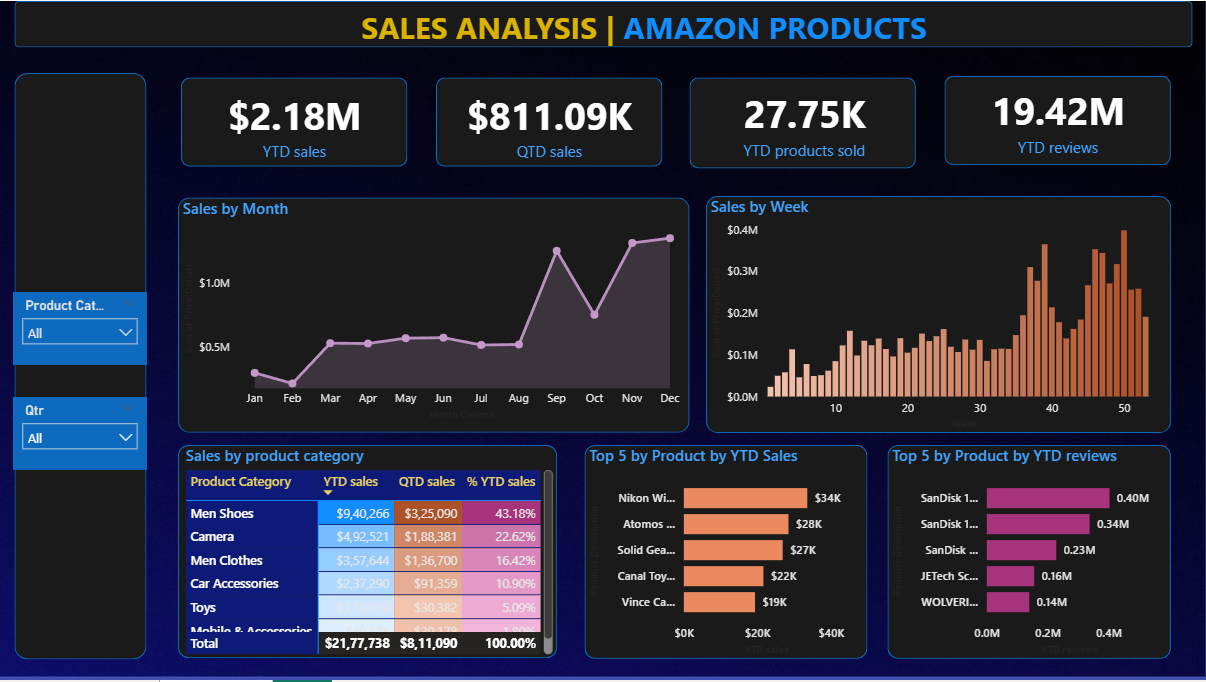

Layout of this report page (visuals, bound fields, positions):
{"tool":"powerbi","page":{"name":"Page 1","canvas":[1280,720],"ordinal":0},"visuals":[{"type":"shape","box":[17,0,1249.1,49.1],"z":0},{"type":"textbox","box":[379.8,0,623.6,52.9],"z":1000},{"type":"shape","box":[464.3,81.3,240,94.5],"z":2000},{"type":"shape","box":[17,75.6,139.8,621.7],"z":3000},{"type":"shape","box":[194.6,81.3,240,94.5],"z":4000},{"type":"shape","box":[733.9,81.3,240,96.4],"z":5000},{"type":"card","fields":{"Values":["Amazon_Data.QTD sales"]},"box":[464.9,85,240,92.6],"z":6000},{"type":"shape","box":[1003.5,79.4,240,94.5],"z":7000},{"type":"card","fields":{"Values":["Amazon_Data.YTD"]},"box":[194.6,85,240,92.6],"z":8000},{"type":"card","fields":{"Values":["Amazon_Data.YTD products sold"]},"box":[735.1,83.2,240,92.6],"z":9000},{"type":"card","fields":{"Values":["Amazon_Data.YTD reviews"]},"box":[1003.5,79.4,240,92.6],"z":10000},{"type":"shape","box":[190.9,207.9,542.4,249.5],"z":11000},{"type":"areaChart","title":"Sales by Month","fields":{"Category":["Date Table.Month Column"],"Y":["Sum(Amazon_Data.Price(Dollar))"]},"box":[190.9,207.9,542.4,240],"z":12000},{"type":"shape","box":[750.2,206,493.2,251.3],"z":13000},{"type":"clusteredColumnChart","title":"Sales by Week","fields":{"Category":["Date Table.Week"],"Y":["Sum(Amazon_Data.Price(Dollar))"]},"box":[750.2,206,493.2,251.3],"z":14000},{"type":"shape","box":[190.9,470.6,402,226],"z":15000},{"type":"pivotTable","title":"Sales by product category","fields":{"Rows":["Amazon_Data.Product Category"],"Values":["Amazon_Data.YTD sales1","Amazon_Data.QTD sales","Amazon_Data.YTD sales"]},"box":[194.6,470.6,398.7,226.8],"z":16000},{"type":"shape","box":[621.7,470.6,300,226.8],"z":17000},{"type":"shape","box":[943,470.6,300.5,226.8],"z":18000},{"type":"clusteredBarChart","title":"Top 5 by Product by YTD Sales","fields":{"Category":["Amazon_Data.Product Description"],"Y":["Amazon_Data.YTD sales"]},"box":[621.7,470.6,300.5,226.8],"z":19000},{"type":"clusteredBarChart","title":"Top 5 by Product by YTD reviews","fields":{"Category":["Amazon_Data.Product Description"],"Y":["Amazon_Data.YTD reviews"]},"box":[943,470.6,300.5,226.8],"z":20000},{"type":"slicer","fields":{"Values":["Amazon_Data.Product Category"]},"box":[15.1,308,141.7,77.5],"z":21000}]}

Visuals, with their boxes in screenshot pixels (x1, y1, x2, y2), scaled from the page's 1280x720 canvas onto the 1206x682 screenshot:
shape: <bbox>16, 0, 1193, 47</bbox>
textbox: <bbox>358, 0, 945, 50</bbox>
shape: <bbox>437, 77, 664, 167</bbox>
shape: <bbox>16, 72, 148, 660</bbox>
shape: <bbox>183, 77, 409, 167</bbox>
shape: <bbox>691, 77, 918, 168</bbox>
card - Amazon_Data.QTD sales: <bbox>438, 81, 664, 168</bbox>
shape: <bbox>945, 75, 1172, 165</bbox>
card - Amazon_Data.YTD: <bbox>183, 81, 409, 168</bbox>
card - Amazon_Data.YTD products sold: <bbox>693, 79, 919, 167</bbox>
card - Amazon_Data.YTD reviews: <bbox>945, 75, 1172, 163</bbox>
shape: <bbox>180, 197, 691, 433</bbox>
"Sales by Month" areaChart: <bbox>180, 197, 691, 424</bbox>
shape: <bbox>707, 195, 1172, 433</bbox>
"Sales by Week" clusteredColumnChart: <bbox>707, 195, 1172, 433</bbox>
shape: <bbox>180, 446, 559, 660</bbox>
"Sales by product category" pivotTable: <bbox>183, 446, 559, 661</bbox>
shape: <bbox>586, 446, 868, 661</bbox>
shape: <bbox>888, 446, 1172, 661</bbox>
"Top 5 by Product by YTD Sales" clusteredBarChart: <bbox>586, 446, 869, 661</bbox>
"Top 5 by Product by YTD reviews" clusteredBarChart: <bbox>888, 446, 1172, 661</bbox>
slicer - Amazon_Data.Product Category: <bbox>14, 292, 148, 365</bbox>
